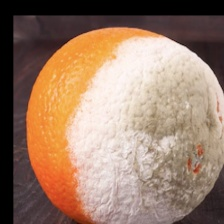orange: (14, 15, 177, 214)
